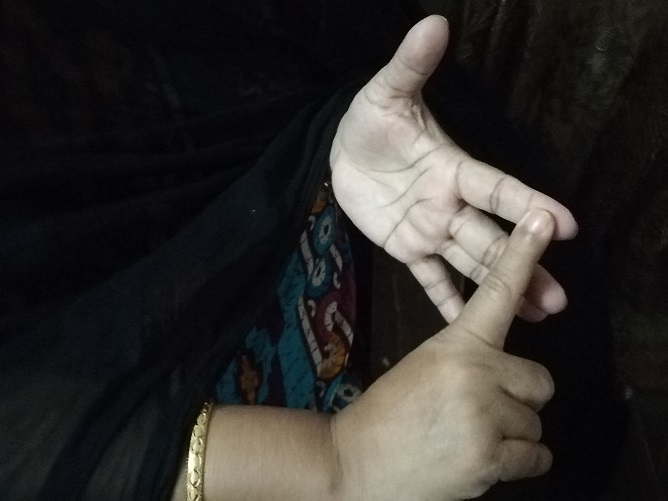o: (344, 79, 573, 441)
